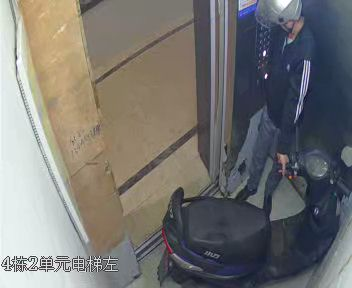Electric-bicycle: (166, 146, 351, 273)
